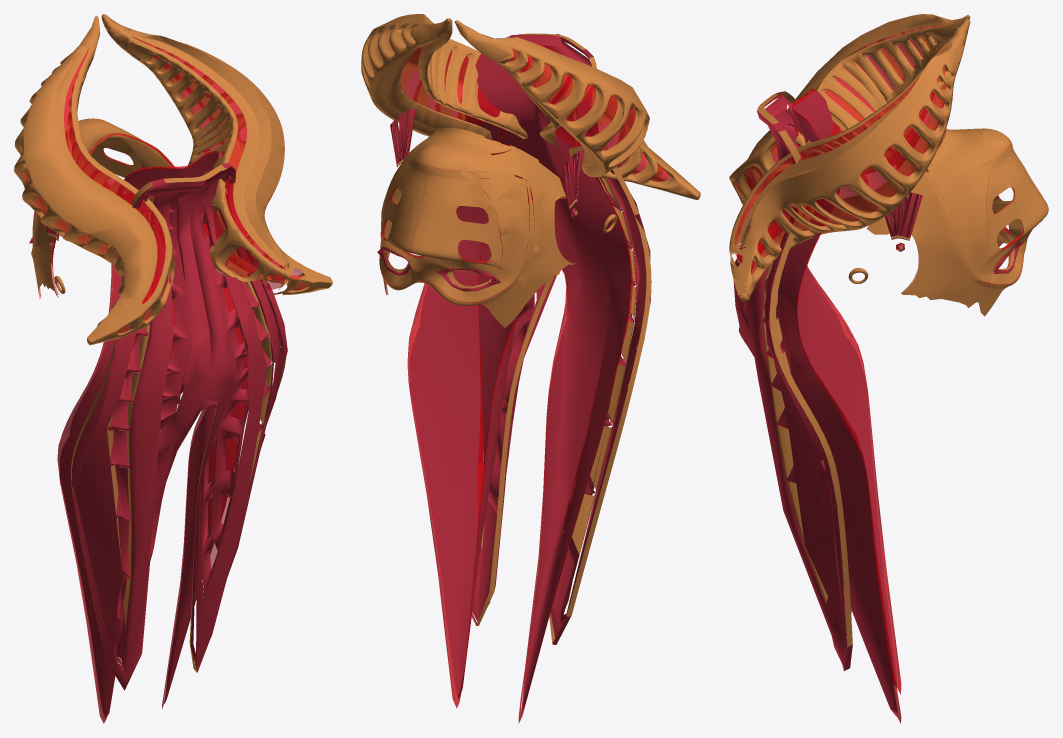
3 views of the same model, side by side, from view 1: azimuth 30°, elevation 25°; view 2: azimuth 150°, elevation 25°; view 3: azimuth 270°, elevation 25° (orthographic). The views are drawn at different scales.
Visible parts, largest first — view 1: ArmorForOsiris_RedMetal_0, ArmorForOsiris_Gold_0_001, ArmorForOsiris_RedMetal_0_001, ArmorForOsiris_Gold_0, ArmorForOsiris_Emi_0_001, ArmorForOsiris_Emi_0, ArmorForOsiris_Gold_0_002; view 2: ArmorForOsiris_RedMetal_0_001, ArmorForOsiris_Gold_0, ArmorForOsiris_Gold_0_001, ArmorForOsiris_RedMetal_0, ArmorForOsiris_Emi_0, ArmorForOsiris_Emi_0_001, ArmorForOsiris_Gold_0_002; view 3: ArmorForOsiris_Gold_0, ArmorForOsiris_RedMetal_0_001, ArmorForOsiris_RedMetal_0, ArmorForOsiris_Gold_0_001, ArmorForOsiris_Emi_0_001, ArmorForOsiris_Emi_0, ArmorForOsiris_Gold_0_002.
Boxes of the visible parts, x1,y1,x2,y2 form: ArmorForOsiris_RedMetal_0: [29, 166, 287, 690]; ArmorForOsiris_Gold_0_001: [14, 14, 287, 345]; ArmorForOsiris_RedMetal_0_001: [46, 149, 282, 717]; ArmorForOsiris_Gold_0: [31, 14, 332, 678]; ArmorForOsiris_Emi_0_001: [22, 37, 308, 333]; ArmorForOsiris_Emi_0: [31, 37, 285, 723]; ArmorForOsiris_Gold_0_002: [15, 73, 174, 344]; ArmorForOsiris_RedMetal_0_001: [390, 34, 644, 713]; ArmorForOsiris_Gold_0: [361, 14, 651, 644]; ArmorForOsiris_Gold_0_001: [361, 17, 700, 317]; ArmorForOsiris_RedMetal_0: [377, 34, 651, 644]; ArmorForOsiris_Emi_0: [379, 44, 632, 723]; ArmorForOsiris_Emi_0_001: [380, 35, 669, 181]; ArmorForOsiris_Gold_0_002: [509, 48, 699, 199]; ArmorForOsiris_Gold_0: [729, 19, 1048, 670]; ArmorForOsiris_RedMetal_0_001: [737, 91, 922, 716]; ArmorForOsiris_RedMetal_0: [733, 97, 1023, 667]; ArmorForOsiris_Gold_0_001: [729, 14, 1029, 301]; ArmorForOsiris_Emi_0_001: [734, 25, 946, 273]; ArmorForOsiris_Emi_0: [734, 50, 1039, 723]; ArmorForOsiris_Gold_0_002: [743, 28, 939, 199].
Bounding box in the file's own units: 3493 × 8942 × 3740.
